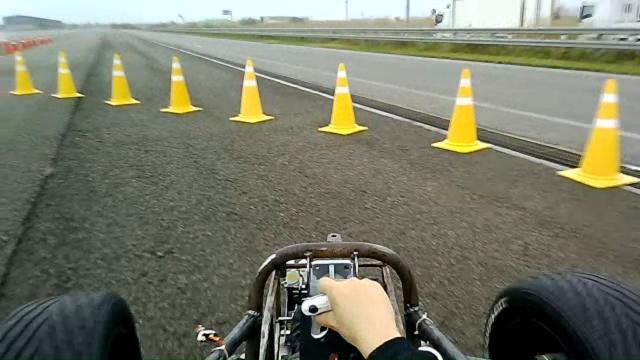yellow cone: (556, 77, 638, 189), (430, 67, 492, 154), (317, 62, 368, 136), (228, 58, 274, 124), (159, 55, 203, 114), (104, 51, 141, 106), (50, 50, 86, 99), (8, 49, 43, 96)
